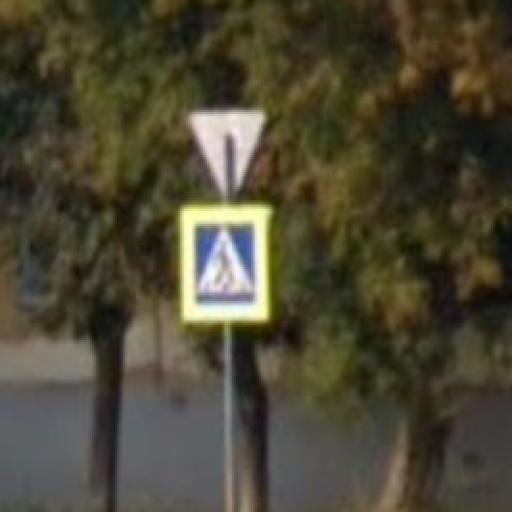traffic_sign: (182, 205, 274, 326)
